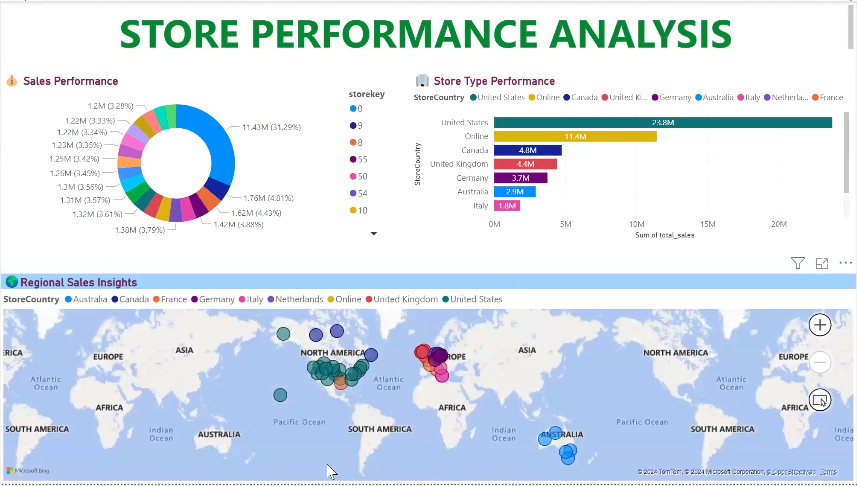

Layout of this report page (visuals, bound fields, positions):
{"tool":"powerbi","page":{"name":"Store Analysis","canvas":[1280,720],"ordinal":3},"visuals":[{"type":"textbox","box":[10.3,0,1269.6,88.2],"z":0},{"type":"textbox","box":[29.4,108.7,235.1,32.3],"z":1000},{"type":"donutChart","fields":{"Category":["customer_sale_eda store_details.StoreKey"],"Y":["CountNonNull(customer_sale_eda sales_details.ProductKey)"]},"box":[44.1,178,397.2,233.9],"z":2000},{"type":"textbox","box":[484.9,104.3,235.1,36.7],"z":3000},{"type":"clusteredBarChart","fields":{"Category":["customer_sale_eda store_details.Country"]},"box":[279,178,1001,150],"z":4000},{"type":"textbox","box":[44.1,392.3,235.1,39.7],"z":5000},{"type":"filledMap","box":[60.2,459.9,235.1,149.9],"z":6000}]}

Visuals, with their boxes in screenshot pixels (x1, y1, x2, y2), scaled from the page's 1280x720 canvas onto the 857x486 screenshot:
textbox: <region>7, 0, 856, 60</region>
textbox: <region>20, 73, 177, 95</region>
donutChart - customer_sale_eda store_details.StoreKey x CountNonNull(customer_sale_eda sales_details.ProductKey): <region>30, 120, 295, 278</region>
textbox: <region>325, 70, 482, 95</region>
clusteredBarChart - customer_sale_eda store_details.Country: <region>187, 120, 856, 221</region>
textbox: <region>30, 265, 187, 292</region>
filledMap: <region>40, 310, 198, 412</region>
